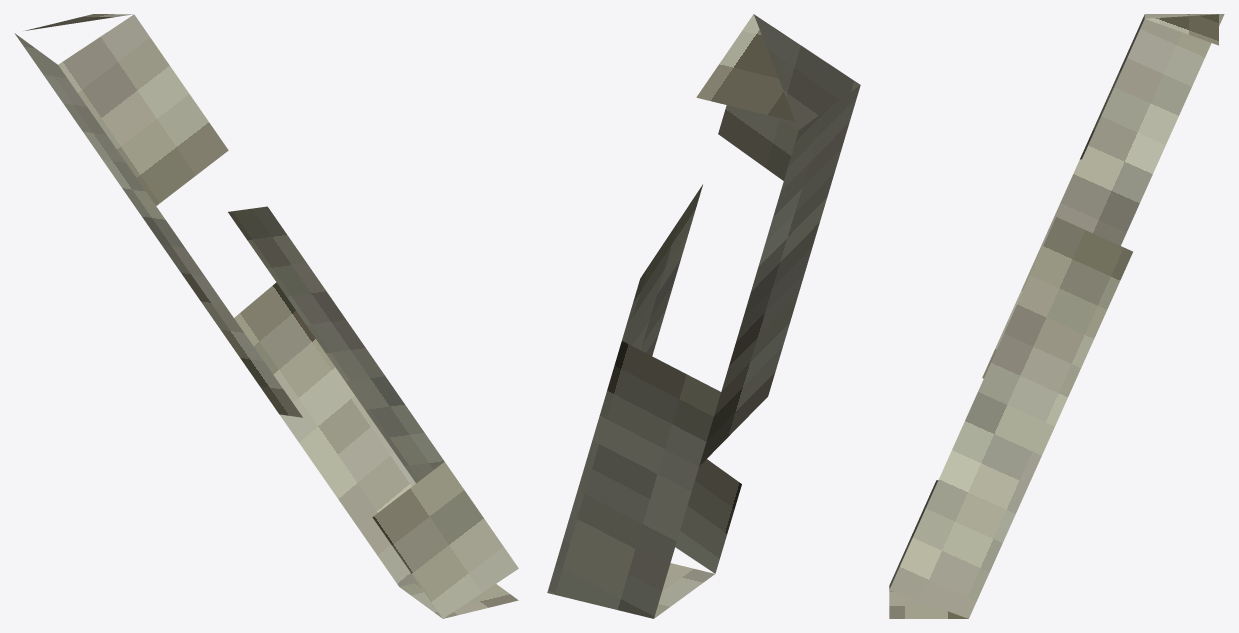
File: birch_thin_branch_22.5_diagonal.obj
3 renders of one model, left to right at view 1: azimuth 30°, elevation 25°; view 2: azimuth 150°, elevation 25°; view 3: azimuth 270°, elevation 25°, orthographic. The views are drawn at different scales.
Parts seen in each view (by area): view 1: cube_selection; view 2: cube_selection; view 3: cube_selection.
Boxes of the visible parts, left/top/right/bottom form: cube_selection: left=14, top=14, right=518, bottom=618; cube_selection: left=547, top=14, right=860, bottom=618; cube_selection: left=889, top=14, right=1224, bottom=618.
Bounding box in the file's own units: 1.31 × 2.12 × 1.31.
